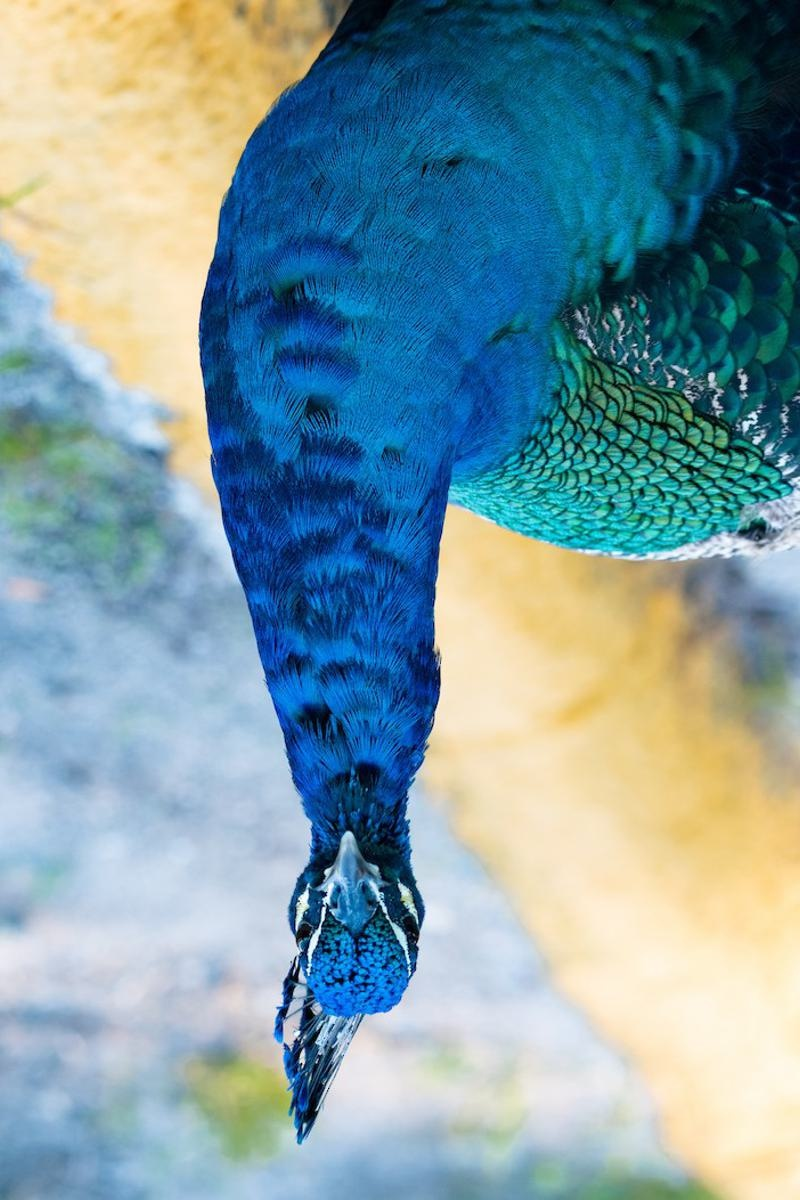peacock: (154, 1, 793, 1173)
